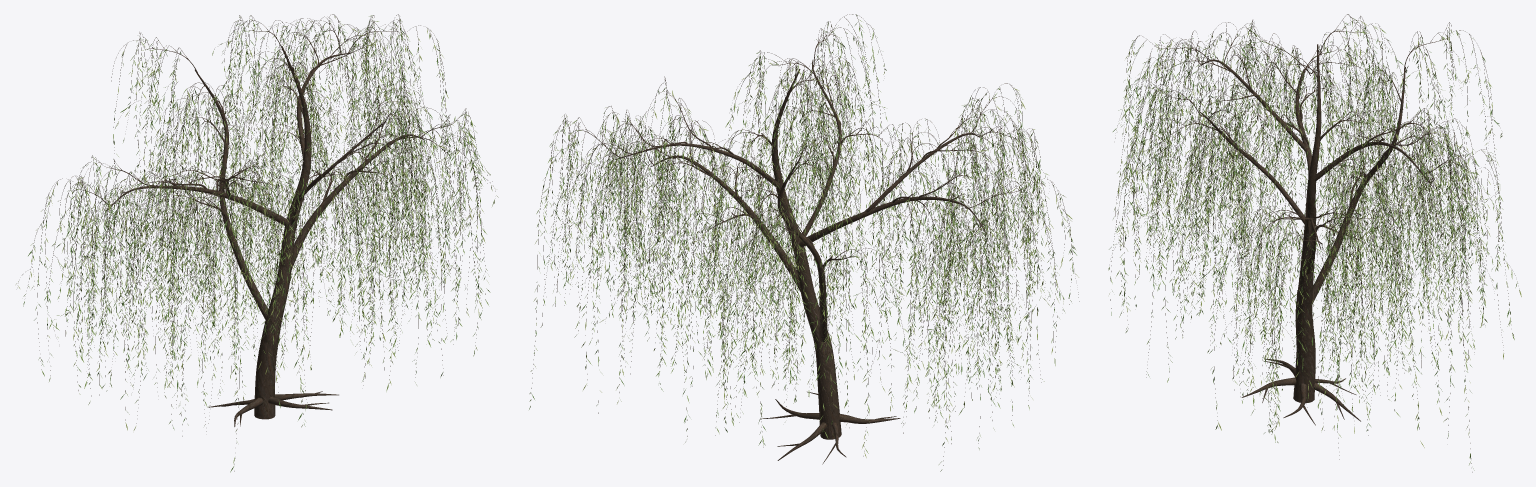
File: willow-grove-stream.glb
3 views of the same model, side by side, from view 1: azimuth 30°, elevation 25°; view 2: azimuth 150°, elevation 25°; view 3: azimuth 270°, elevation 25° (orthographic). The views are drawn at different scales.
Visible parts, largest first — view 1: WILLOW_LEAVES, WILLOW_BRANCHES, WILLOW_TRUNK; view 2: WILLOW_LEAVES, WILLOW_BRANCHES, WILLOW_TRUNK; view 3: WILLOW_LEAVES, WILLOW_BRANCHES, WILLOW_TRUNK.
Part boxes in pixels (x1,y1,x2,y2): WILLOW_LEAVES: [16, 15, 498, 472]; WILLOW_BRANCHES: [22, 14, 495, 471]; WILLOW_TRUNK: [107, 46, 425, 426]; WILLOW_LEAVES: [529, 14, 1078, 471]; WILLOW_BRANCHES: [530, 14, 1079, 465]; WILLOW_TRUNK: [615, 59, 985, 464]; WILLOW_LEAVES: [1108, 18, 1521, 470]; WILLOW_BRANCHES: [1110, 14, 1519, 472]; WILLOW_TRUNK: [1199, 44, 1432, 425].
Bounding box in the file's own units: 7.75 × 6.49 × 6.12.
5 materials, 1 textured.
